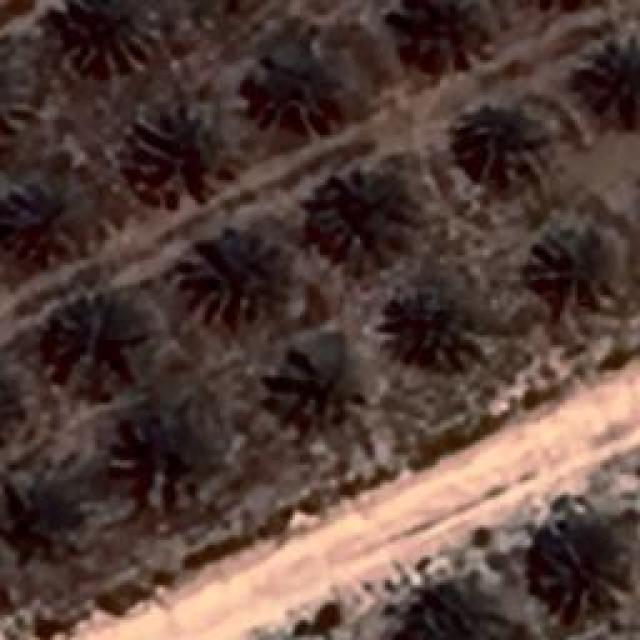PalmTree: (310, 172, 412, 266), (130, 111, 232, 199), (541, 509, 629, 609), (266, 345, 359, 430), (524, 218, 624, 296), (0, 178, 100, 252), (192, 241, 282, 319), (62, 0, 159, 72), (246, 44, 339, 118), (466, 107, 552, 185), (132, 428, 216, 504), (391, 281, 469, 361), (0, 480, 65, 575), (60, 308, 145, 380), (409, 590, 509, 640), (395, 0, 475, 58), (587, 31, 640, 116), (0, 55, 40, 156), (0, 348, 40, 449)
